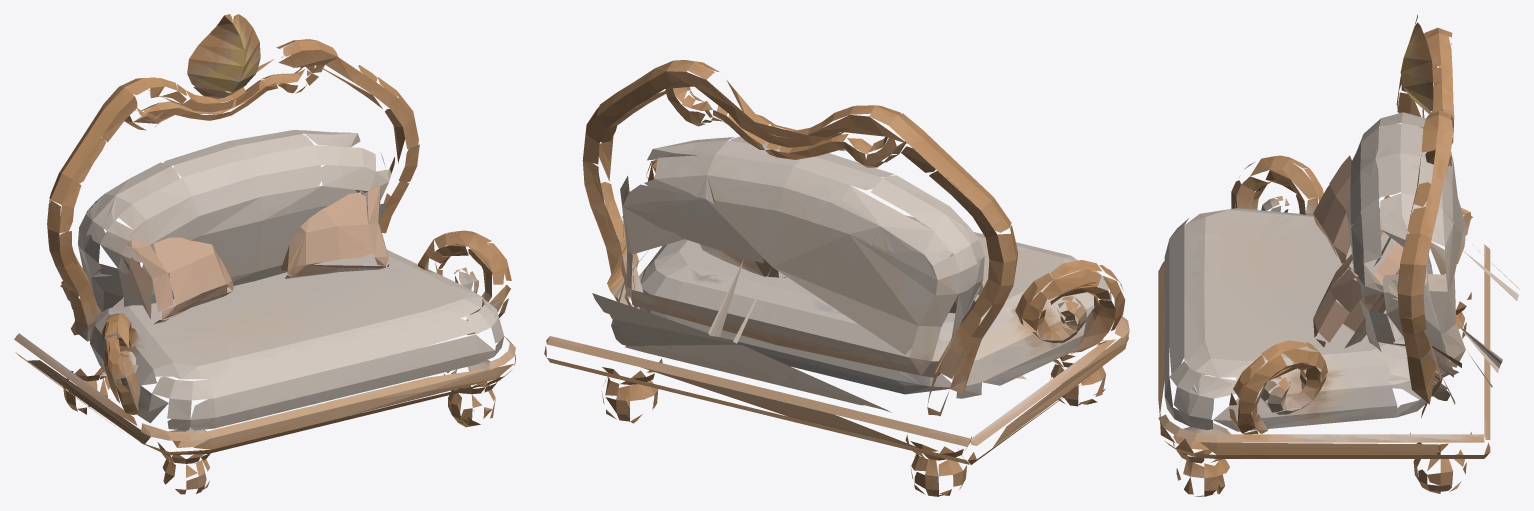
File: g_f_sofa.glb
3 views of the same model, side by side, from view 1: azimuth 30°, elevation 25°; view 2: azimuth 150°, elevation 25°; view 3: azimuth 270°, elevation 25° (orthographic). The views are drawn at different scales.
Visible parts, largest first — view 1: geometry_0; view 2: geometry_0; view 3: geometry_0.
Boxes of the visible parts, x1=… form: geometry_0: x1=14, y1=14, x2=515, y2=494; geometry_0: x1=544, y1=60, x2=1129, y2=496; geometry_0: x1=1158, y1=14, x2=1519, y2=496.
Bounding box in the file's own units: 0.1971 × 0.1757 × 0.1424.
